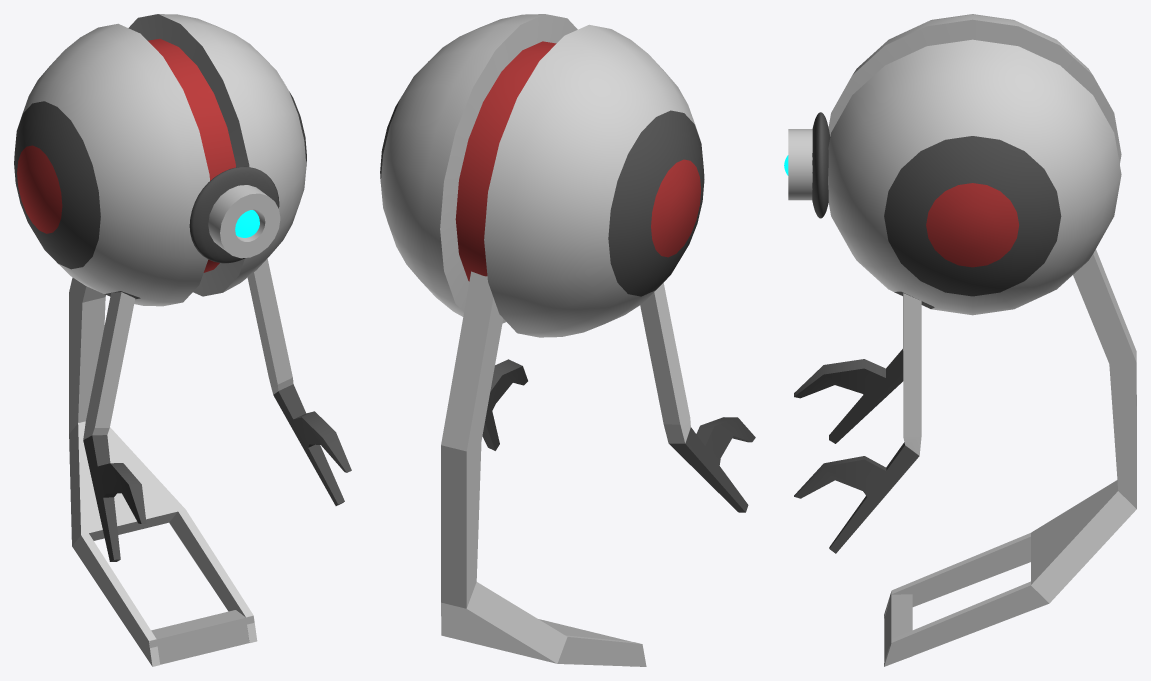
Rendered from CyclopsBotBody.fbx.
3 views of the same model, side by side, from view 1: azimuth 30°, elevation 25°; view 2: azimuth 150°, elevation 25°; view 3: azimuth 270°, elevation 25° (orthographic). The views are drawn at different scales.
Parts seen in each view (by area): view 1: pSphere1, pCube1, pCube3, pasted__pCube3, pPipe2, pCube2, pSphere2, pSphere3; view 2: pSphere1, pCube1, pCube3, pasted__pCube3; view 3: pSphere1, pCube1, pasted__pCube3, pCube3, pPipe2, pSphere2, pCube2.
Boxes of the visible parts, x1=… form: pSphere1: x1=14, y1=14, x2=306, y2=306; pCube1: x1=69, y1=277, x2=257, y2=666; pCube3: x1=83, y1=292, x2=146, y2=561; pasted__pCube3: x1=247, y1=258, x2=351, y2=505; pPipe2: x1=208, y1=185, x2=280, y2=258; pCube2: x1=149, y1=610, x2=254, y2=664; pSphere2: x1=189, y1=166, x2=279, y2=263; pSphere3: x1=235, y1=210, x2=259, y2=237; pSphere1: x1=380, y1=14, x2=704, y2=337; pCube1: x1=441, y1=271, x2=646, y2=666; pCube3: x1=640, y1=283, x2=755, y2=512; pasted__pCube3: x1=482, y1=359, x2=527, y2=450; pSphere1: x1=828, y1=14, x2=1121, y2=315; pCube1: x1=884, y1=249, x2=1136, y2=666; pasted__pCube3: x1=794, y1=293, x2=921, y2=553; pCube3: x1=794, y1=296, x2=903, y2=443; pPipe2: x1=788, y1=129, x2=812, y2=200; pSphere2: x1=812, y1=112, x2=830, y2=218; pCube2: x1=884, y1=591, x2=912, y2=661.
Bounding box in the file's own units: 1.19 × 2.65 × 1.39.
